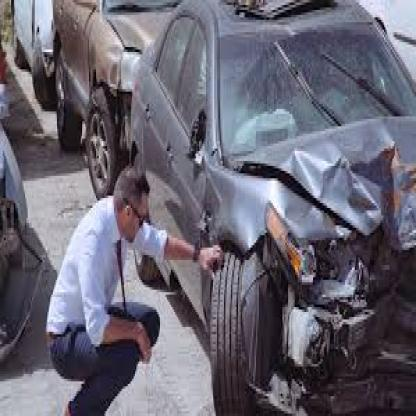accident: (129, 0, 415, 416)
